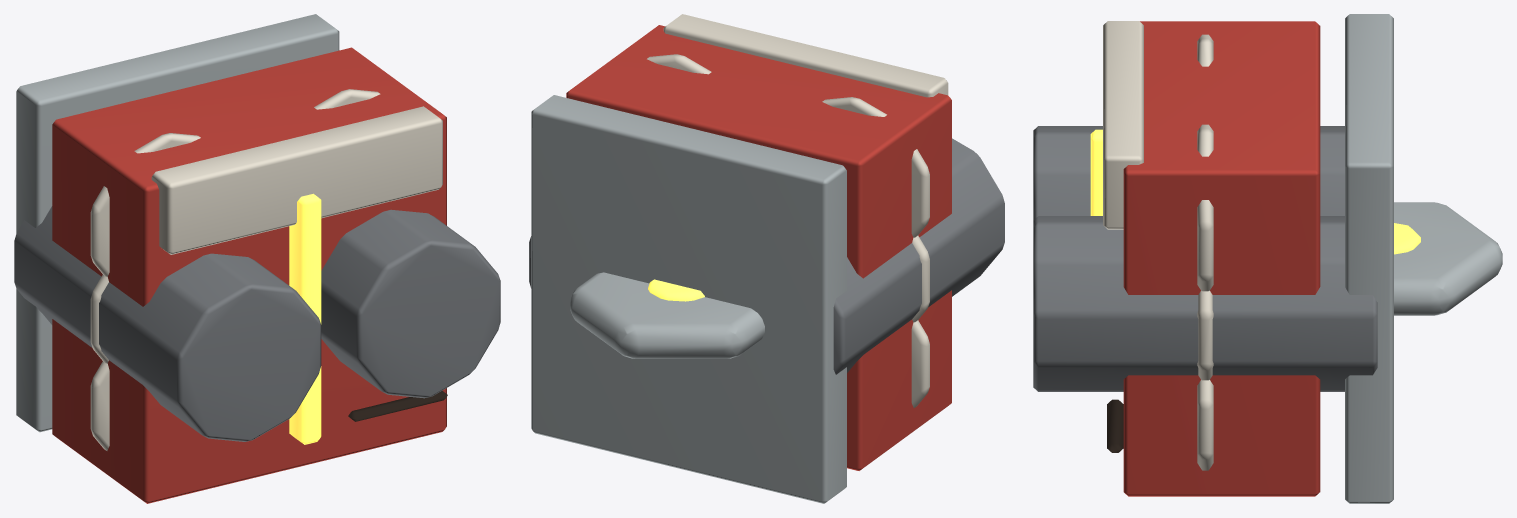
The model's file is everykit_standard_cell.glb.
The picture shows the model from 3 angles, left to right: view 1: azimuth 30°, elevation 25°; view 2: azimuth 150°, elevation 25°; view 3: azimuth 270°, elevation 25°; orthographic projection. The views are drawn at different scales.
Parts seen in each view (by area): view 1: everykit_standard_cell; view 2: everykit_standard_cell; view 3: everykit_standard_cell.
Boxes of the visible parts, x1,y1,x2,y2 form: everykit_standard_cell: (14,14,500,503); everykit_standard_cell: (529,14,1004,503); everykit_standard_cell: (1033,14,1502,503).
Bounding box in the file's own units: 0.4787 × 0.4663 × 0.5725.
1 material, 1 textured.
